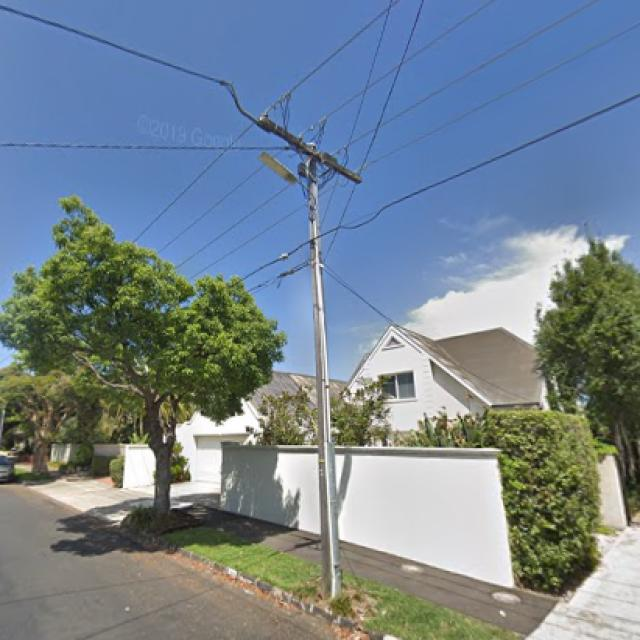crossarm: (221, 80, 362, 184)
streetlight: (257, 151, 314, 197)
timber-pole: (305, 142, 343, 600)
